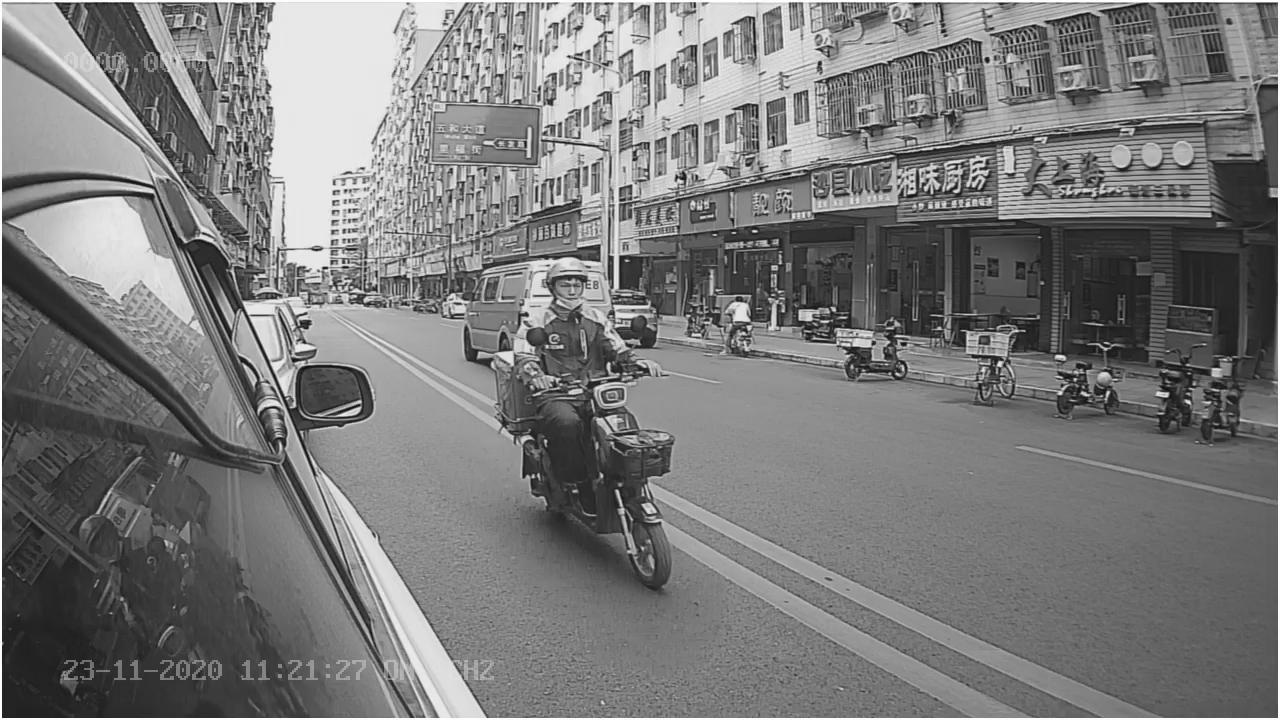person: (510, 257, 662, 381)
